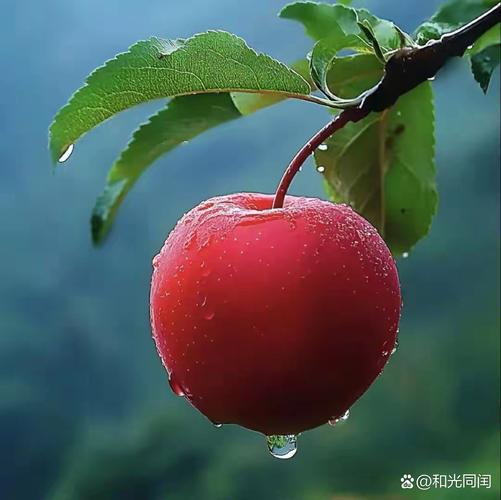ripe: (143, 173, 417, 458)
